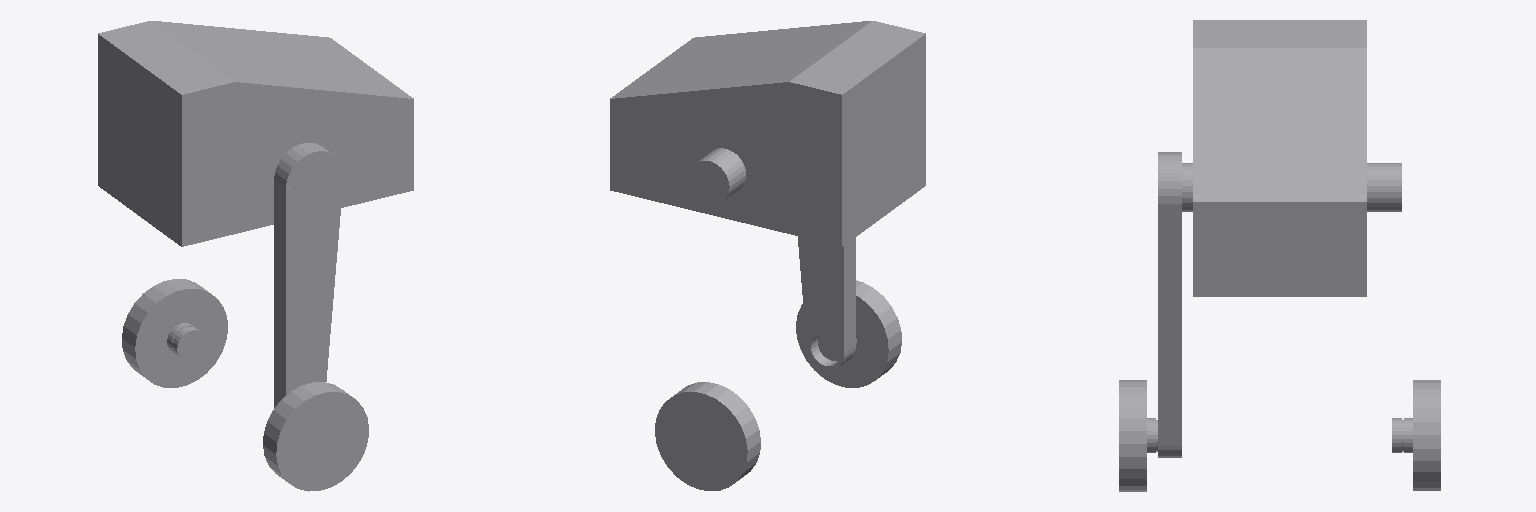
The robot description file, URDF, robot "car_wheel_leg":
<?xml version="1.0" encoding="utf-8"?>
<!--
  wheel-leg robot : car.urdf
  Generated by urdf/tools/build_final.py (do not hand-edit).

  SOURCE OF TRUTH
    geometry : model/car.STEP  (parsed: assembly transforms + bore features)
    mass     : 质量属性/*.txt  (SolidWorks mass-property reports)

  FRAME (CAD axes, right-handed, metres)
    X : forward   (body long axis, 40 mm)
    Y : height    (25 mm body, leg hangs toward -Y)
    Z : lateral   (across the two wheels; body 35 mm)

  DERIVED GEOMETRY (all verified to <1e-6 mm)
    leg pitch, hip bore to wheel bore           = 40.000000 mm
    wheel outer radius                          =  8.000 mm   (R8 face)
    wheel width                                 =  7.000 mm
    leg  thickness / width                      =  3.500 / 10.000 mm
    body                                        = 40.000 x 25.000 x 35.000 mm
    hip_lower  Z = 0.0        hip_upper  Z = 31.5
    wheel_lower centre Z = -2.0   wheel_upper centre Z = 37.0
      (mirror-symmetric about the body mid-plane Z = 17.5)

  JOINTS
    hip_*_joint    revolute,   axis Z  (leg swings in the X-Y plane)
    wheel_*_joint  continuous, axis Z  (wheel spins about Z)
    Both hip and wheel axes are lateral, because the leg's hip bore and its
    wheel bore are coaxial with the wheel's spin axis.

  MASS (total 25.53 g)
    body 21.53 g | leg 1.14 g x2 | wheel 0.86 g x2
    Inertia tensors are the "by centroid" blocks of the reports,
    converted g*mm^2 to kg*m^2.

  NOTES
    * Meshes are link-local (origin at that link's joint anchor), in metres,
      sharing the CAD axes, so no rpy or offset is needed on <visual>.
    * leg_upper is leg_lower translated; wheel_upper is wheel_lower rotated
      180 deg about Y.  Each link therefore gets its own mesh file.
-->
<robot name="car_wheel_leg">
  <link name="world"/>
  <link name="mount"/>
  <!-- +90 deg about X: maps the CAD frame (down = -Y) onto a Z-up
       world (down = -Z).  Drop-in for MuJoCo / PyBullet / Gazebo. -->
  <joint name="world_to_mount" type="floating">
    <origin xyz="0 0 0" rpy="0 0 0"/>
    <parent link="world"/>
    <child link="mount"/>
  </joint>
  <joint name="mount_to_body" type="fixed">
    <origin xyz="0 0 0" rpy="1.5707963267948966 0 0"/>
    <parent link="mount"/>
    <child link="body"/>
  </joint>

  <link name="body">
    <inertial>
      <origin xyz="-0.01114 0.0017 0.0175" rpy="0 0 0"/>
      <mass value="0.02153"/>
      <inertia ixx="2.09079e-06" ixy="-3.7498e-07" ixz="0" iyy="3.89021e-06" iyz="0" izz="3.60349e-06"/>
    </inertial>
    <visual>
      <origin xyz="0 0 0" rpy="0 0 0"/>
      <geometry>
        <mesh filename="meshes/body_local.stl"/>
      </geometry>
      <material name="grey">
        <color rgba="0.7 0.7 0.72 1.0"/>
      </material>
    </visual>
    <collision>
      <origin xyz="0 0 0" rpy="0 0 0"/>
      <geometry>
        <mesh filename="meshes/body_local.stl"/>
      </geometry>
    </collision>
  </link>

  <link name="leg_lower">
    <inertial>
      <origin xyz="-0.000812491 -0.018049094 0.00175" rpy="0 0 0"/>
      <mass value="0.00114"/>
      <inertia ixx="1.6101e-07" ixy="6.89e-09" ixz="0" iyy="8.7e-09" iyz="0" izz="1.6738e-07"/>
    </inertial>
    <visual>
      <origin xyz="0 0 0" rpy="0 0 0"/>
      <geometry>
        <mesh filename="meshes/leg_lower_local.stl"/>
      </geometry>
      <material name="grey">
        <color rgba="0.7 0.7 0.72 1.0"/>
      </material>
    </visual>
    <collision>
      <origin xyz="0 0 0" rpy="0 0 0"/>
      <geometry>
        <mesh filename="meshes/leg_lower_local.stl"/>
      </geometry>
    </collision>
  </link>

  <link name="leg_upper">
    <inertial>
      <origin xyz="-0.000812491 -0.018049094 0.00175" rpy="0 0 0"/>
      <mass value="0.00114"/>
      <inertia ixx="1.6101e-07" ixy="6.89e-09" ixz="0" iyy="8.7e-09" iyz="0" izz="1.6738e-07"/>
    </inertial>
    <visual>
      <origin xyz="0 0 0" rpy="0 0 0"/>
      <geometry>
        <mesh filename="meshes/leg_upper_local.stl"/>
      </geometry>
      <material name="grey">
        <color rgba="0.7 0.7 0.72 1.0"/>
      </material>
    </visual>
    <collision>
      <origin xyz="0 0 0" rpy="0 0 0"/>
      <geometry>
        <mesh filename="meshes/leg_upper_local.stl"/>
      </geometry>
    </collision>
  </link>

  <link name="wheel_lower">
    <inertial>
      <origin xyz="2.069e-06 1.8e-07 -0.00326" rpy="0 0 0"/>
      <mass value="0.00086"/>
      <inertia ixx="1.474e-08" ixy="0" ixz="0" iyy="1.474e-08" iyz="0" izz="2.592e-08"/>
    </inertial>
    <visual>
      <origin xyz="0 0 0" rpy="0 0 0"/>
      <geometry>
        <mesh filename="meshes/wheel_lower_local.stl"/>
      </geometry>
      <material name="grey">
        <color rgba="0.7 0.7 0.72 1.0"/>
      </material>
    </visual>
    <collision>
      <origin xyz="0 0 0" rpy="0 0 0"/>
      <geometry>
        <mesh filename="meshes/wheel_lower_local.stl"/>
      </geometry>
    </collision>
  </link>

  <link name="wheel_upper">
    <inertial>
      <origin xyz="2.069e-06 1.8e-07 0.00326" rpy="0 0 0"/>
      <mass value="0.00086"/>
      <inertia ixx="1.474e-08" ixy="0" ixz="0" iyy="1.474e-08" iyz="0" izz="2.592e-08"/>
    </inertial>
    <visual>
      <origin xyz="0 0 0" rpy="0 0 0"/>
      <geometry>
        <mesh filename="meshes/wheel_upper_local.stl"/>
      </geometry>
      <material name="grey">
        <color rgba="0.7 0.7 0.72 1.0"/>
      </material>
    </visual>
    <collision>
      <origin xyz="0 0 0" rpy="0 0 0"/>
      <geometry>
        <mesh filename="meshes/wheel_upper_local.stl"/>
      </geometry>
    </collision>
  </link>

  <joint name="hip_lower_joint" type="revolute">
    <origin xyz="-0.009397509 -0.001080906 0" rpy="0 0 0"/>
    <parent link="body"/>
    <child link="leg_lower"/>
    <axis xyz="0 0 1"/>
    <limit lower="-0.8" upper="0.8" effort="10" velocity="20"/>
  </joint>
  <joint name="hip_upper_joint" type="revolute">
    <origin xyz="-0.009397509 -0.001080906 0.0315" rpy="0 0 0"/>
    <parent link="body"/>
    <child link="leg_upper"/>
    <axis xyz="0 0 1"/>
    <limit lower="-0.8" upper="0.8" effort="10" velocity="20"/>
  </joint>
  <joint name="wheel_lower_joint" type="continuous">
    <origin xyz="-0.00180456 -0.039959274 0" rpy="0 0 0"/>
    <parent link="leg_lower"/>
    <child link="wheel_lower"/>
    <axis xyz="0 0 1"/>
    <limit effort="10" velocity="20"/>
  </joint>
  <joint name="wheel_upper_joint" type="continuous">
    <origin xyz="-0.00180456 -0.039959274 0.0035" rpy="0 0 0"/>
    <parent link="leg_upper"/>
    <child link="wheel_upper"/>
    <axis xyz="0 0 1"/>
    <limit effort="10" velocity="20"/>
  </joint>

</robot>

--- What the picture shows (computed from the rendered views, not written in the file) ---
3 views of the same robot in one strip: view 1: azimuth 30°, elevation 25°; view 2: azimuth 150°, elevation 25°; view 3: azimuth 270°, elevation 25° (orthographic).
Robot: car_wheel_leg — 7 links, 6 joints (2 revolute, 2 continuous, 1 fixed, 1 floating); root link world; default pose: all joints at 0.
Visible links, largest first — view 1: body, leg_upper, wheel_upper, wheel_lower; view 2: body, wheel_lower, leg_upper, wheel_upper; view 3: body, leg_upper, wheel_lower, wheel_upper.
Boxes of the visible links, bbox=[...] form: body: bbox=[98, 21, 413, 246]; leg_upper: bbox=[274, 143, 343, 407]; wheel_upper: bbox=[263, 382, 368, 491]; wheel_lower: bbox=[122, 279, 227, 387]; body: bbox=[610, 21, 925, 246]; wheel_lower: bbox=[655, 382, 760, 490]; leg_upper: bbox=[798, 236, 855, 370]; wheel_upper: bbox=[796, 280, 901, 387]; body: bbox=[1182, 20, 1401, 296]; leg_upper: bbox=[1158, 152, 1181, 457]; wheel_lower: bbox=[1392, 380, 1440, 490]; wheel_upper: bbox=[1119, 380, 1157, 491].
Bounding box of the posed robot: 0.04 × 0.046 × 0.0649 m (x, y, z).
4 mesh visuals loaded from 5 distinct referenced files (4 binary STL); not drawn: 1 (reference not matched to a file when rendering).
